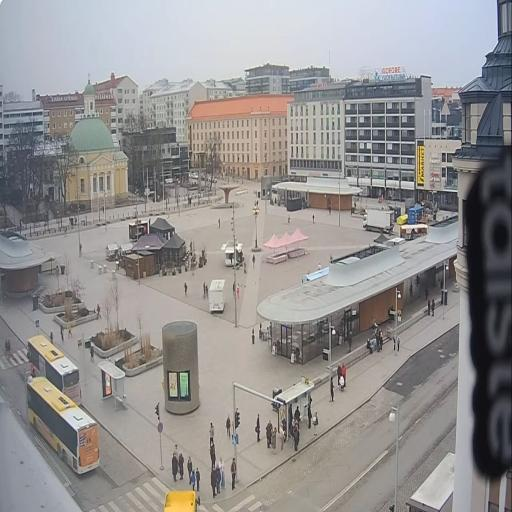bus: (24, 373, 104, 477), (24, 331, 82, 410), (161, 487, 202, 511)
car: (209, 174, 218, 185), (200, 173, 208, 182), (191, 172, 199, 180)
delivery: (364, 206, 394, 236)
